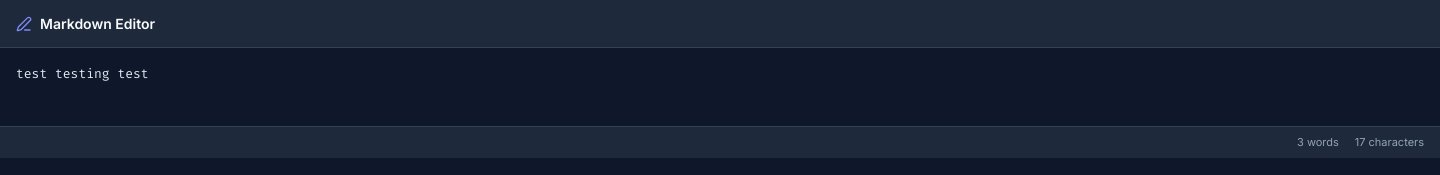
Editor Component Search and Replace › supports whole word matching
The width and height of the screenshot is (1440, 175).
Press f
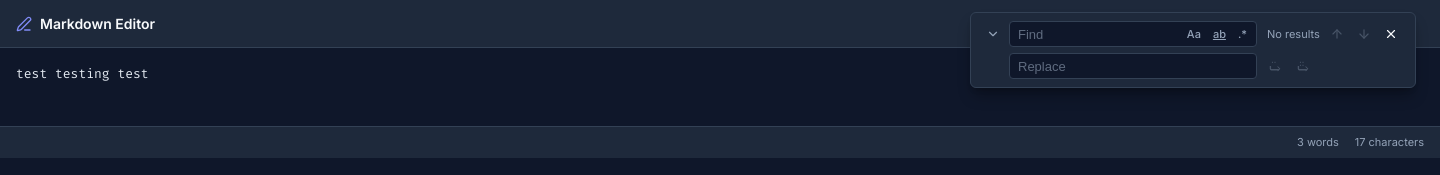
Type "test" into the field with placeholder "Find" at x=1133, y=34, box left=1010, top=22, right=1256, bottom=46
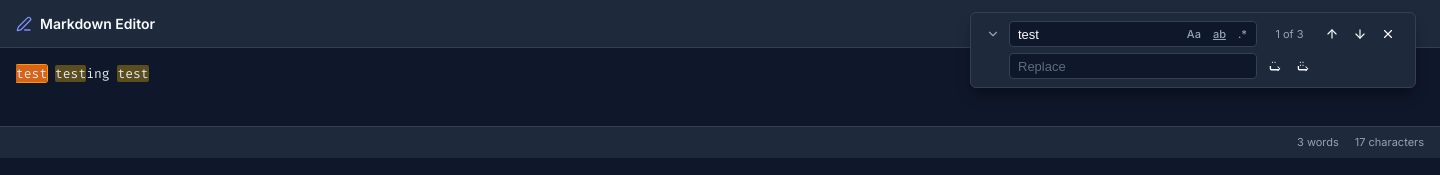
# Enable Whole Word toggle
Click the button titled "Match Whole Word (ab)" at x=1219, y=34, box left=1208, top=25, right=1231, bottom=43
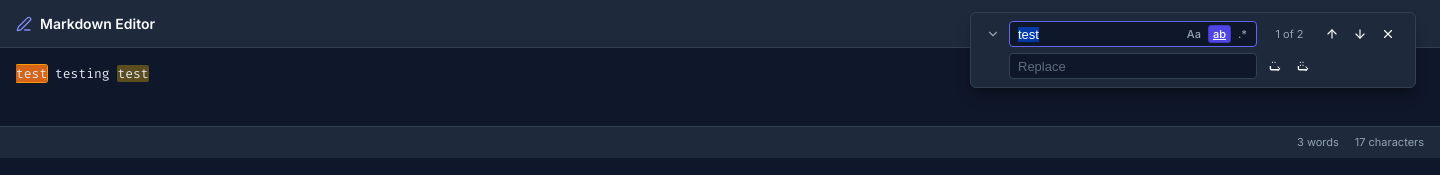
Now the text with class "find-replace-status" reads "1 of 2", box left=1276, top=27, right=1304, bottom=41
